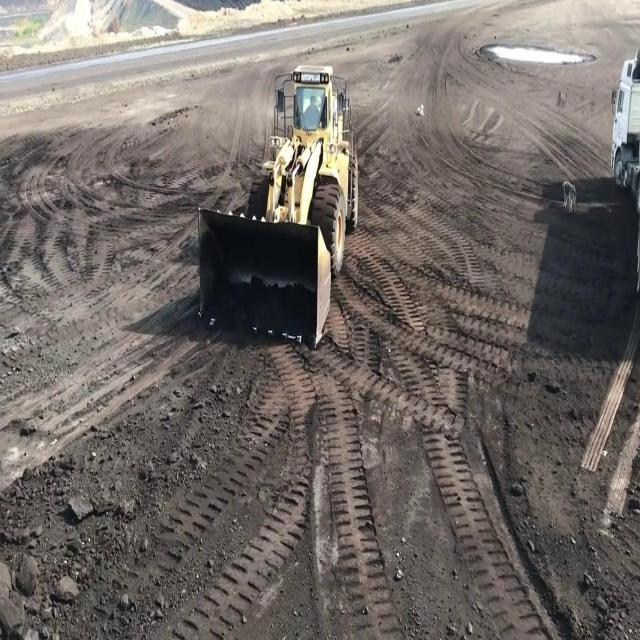buldozerpayloadergrader: (190, 60, 360, 348)
dump_truck: (608, 49, 640, 203)
